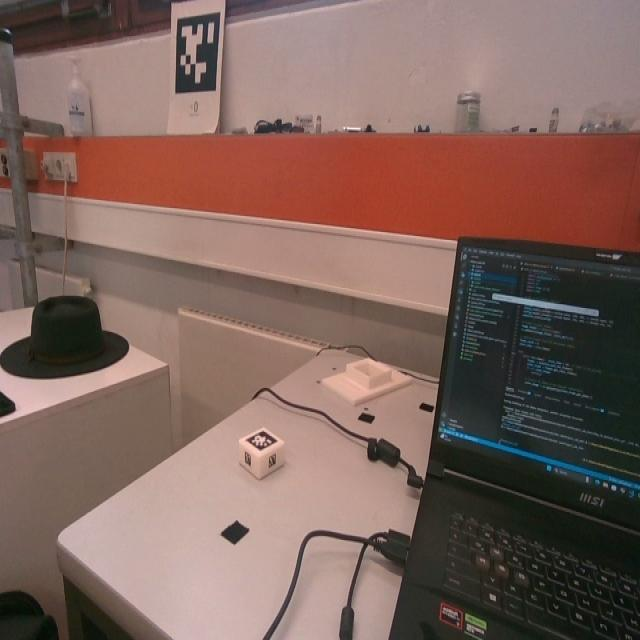Cube: (236, 424, 285, 480)
